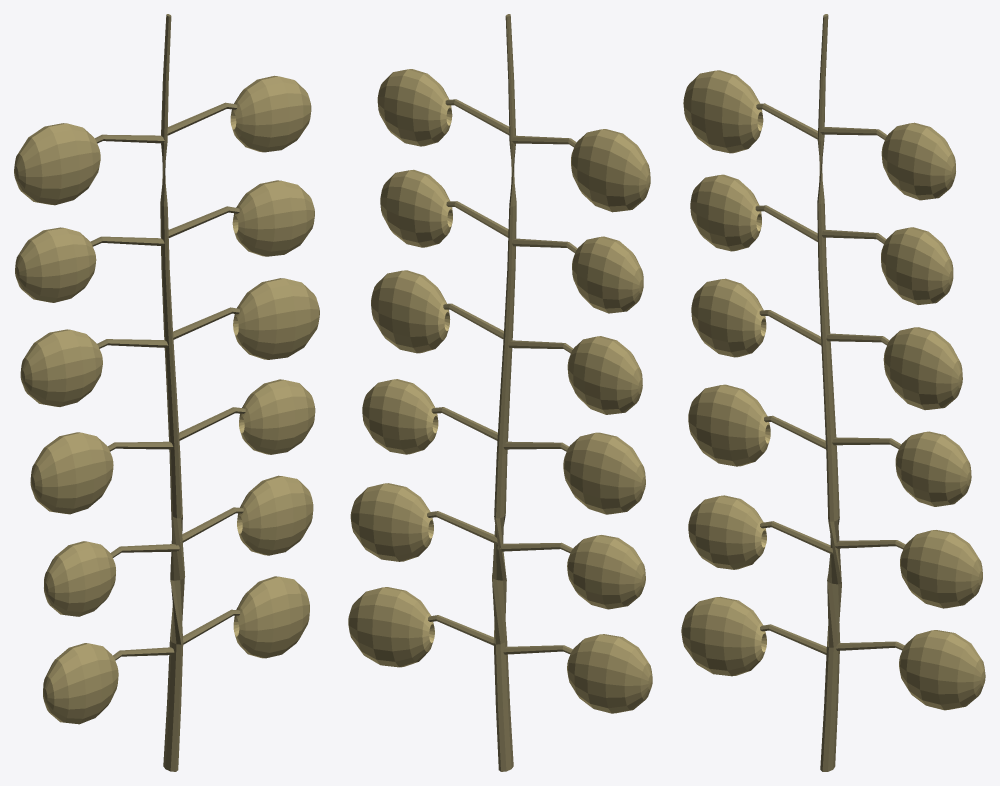
Rendered from caytonia.glb.
The picture shows the model from 3 angles, left to right: view 1: azimuth 30°, elevation 25°; view 2: azimuth 150°, elevation 25°; view 3: azimuth 330°, elevation 25°; orthographic projection.
Visible parts, largest first — view 1: twelve-recurved-rounded-proximal-mouth-cupules, slender-axis-and-subopposite-stalks; view 2: twelve-recurved-rounded-proximal-mouth-cupules, slender-axis-and-subopposite-stalks; view 3: twelve-recurved-rounded-proximal-mouth-cupules, slender-axis-and-subopposite-stalks.
Part boxes in pixels (box(x1,y1,x2,y2)): twelve-recurved-rounded-proximal-mouth-cupules: box(14, 75, 319, 724); slender-axis-and-subopposite-stalks: box(90, 14, 245, 771); twelve-recurved-rounded-proximal-mouth-cupules: box(348, 69, 652, 713); slender-axis-and-subopposite-stalks: box(427, 14, 577, 771); twelve-recurved-rounded-proximal-mouth-cupules: box(681, 70, 985, 710); slender-axis-and-subopposite-stalks: box(755, 14, 905, 771).
Size of the model in its own units: 0.0214 by 0.052 by 0.00477.
